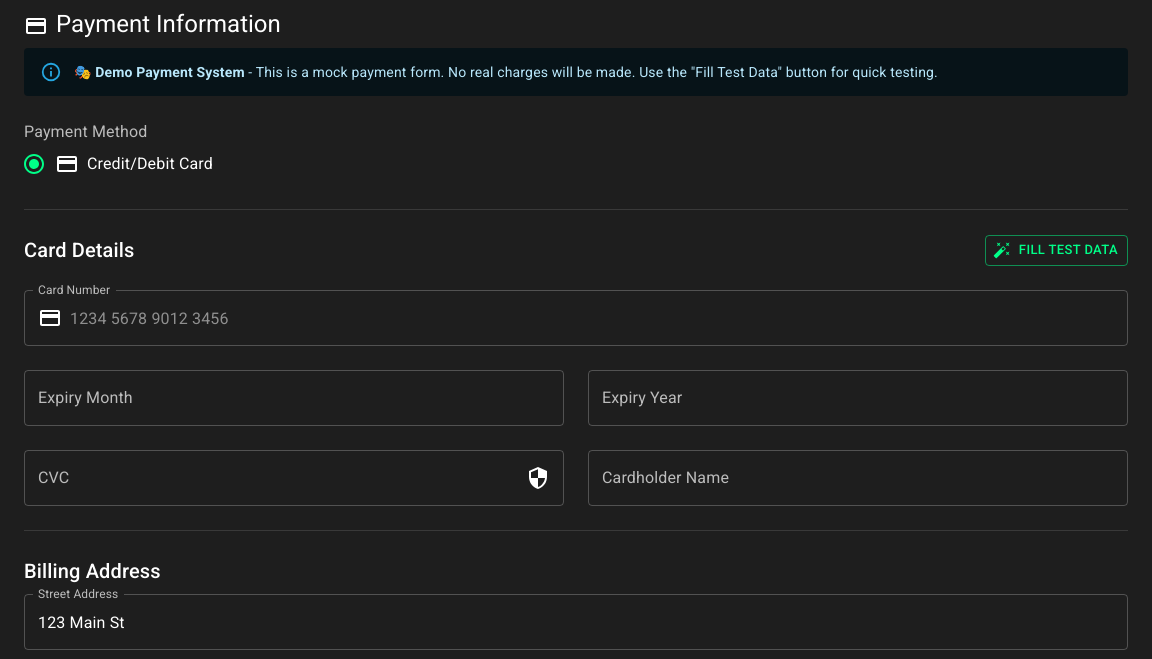
Test: MockPaymentForm Component › validates card expiry date
This screenshot has width=1152, height=659.
Note: Test expired card
In the field labelled "Expiry Month": (294, 398) 24,370 -> 564,426, type "01"
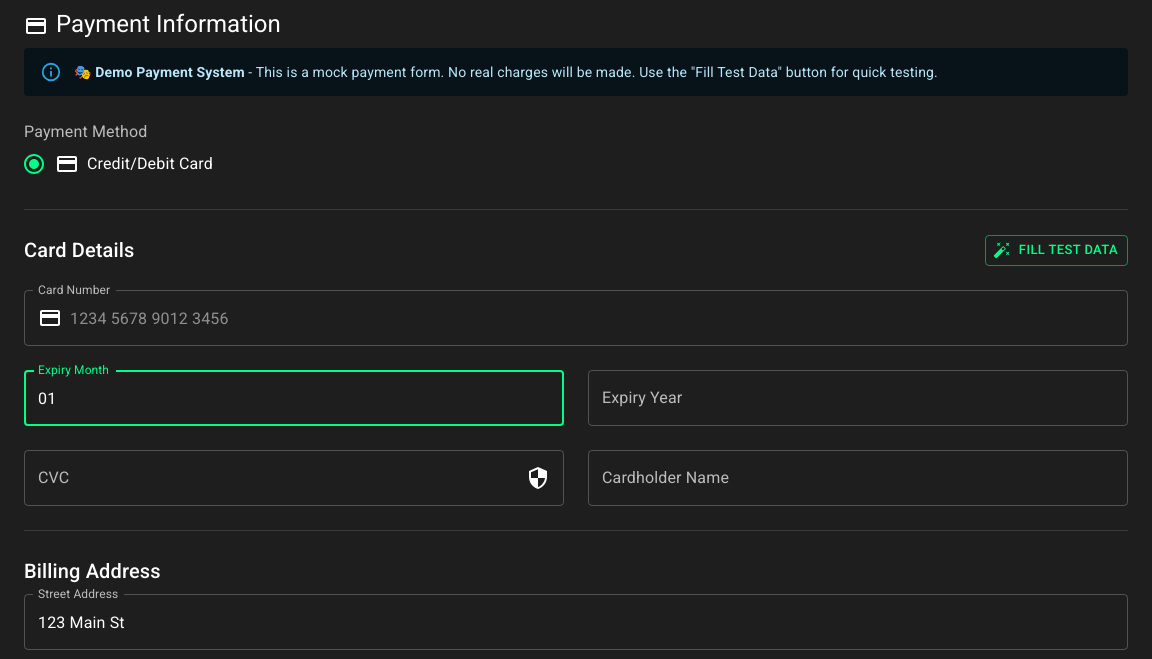
In the field labelled "Expiry Year": (858, 398) 588,370 -> 1128,426, type "2020"
(page scrolled)
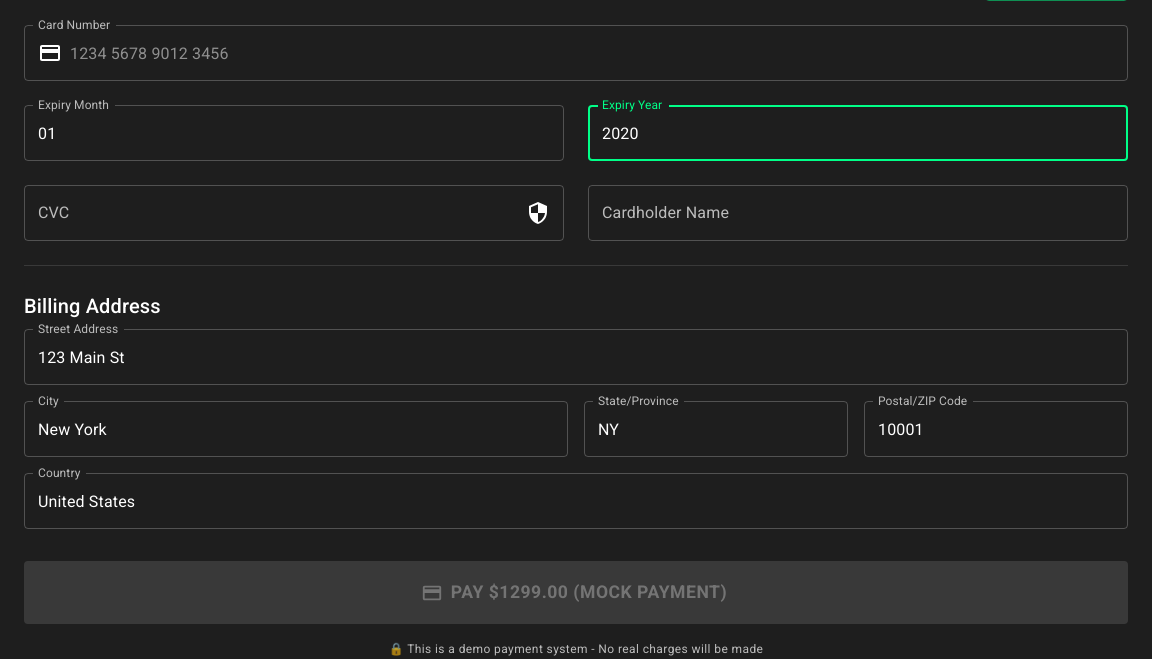
Click the button "Pay $1299.00 (Mock Payment)": (576, 593) 24,561 -> 1128,624
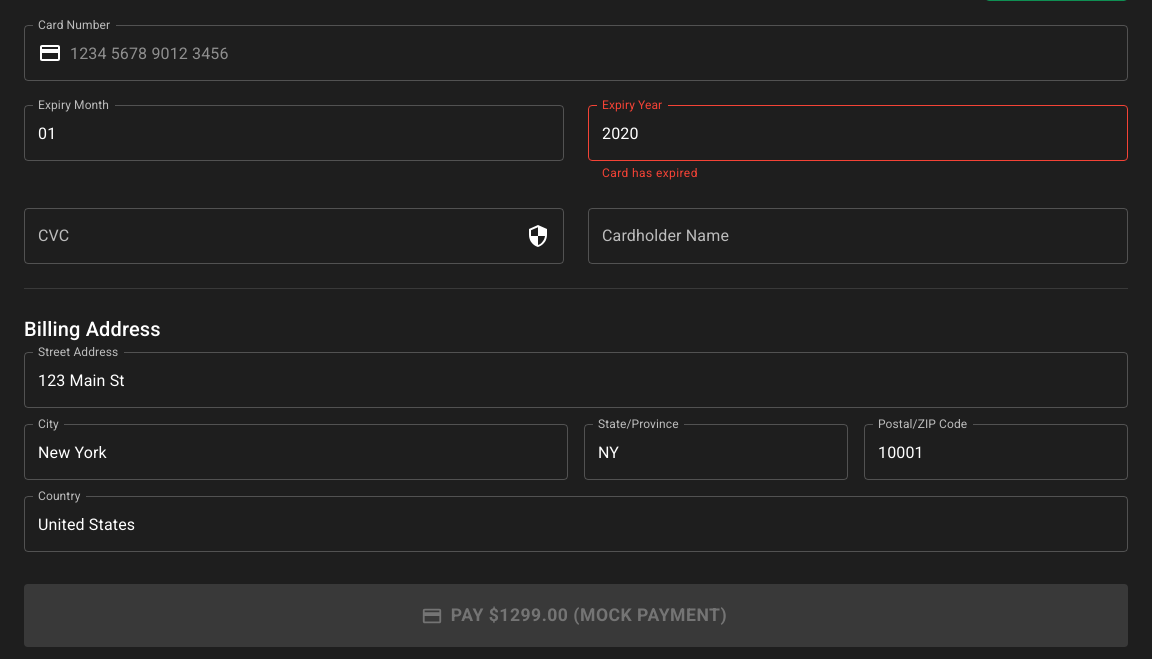
Result: the text "Card has expired" is shown at 602,166 -> 698,180
